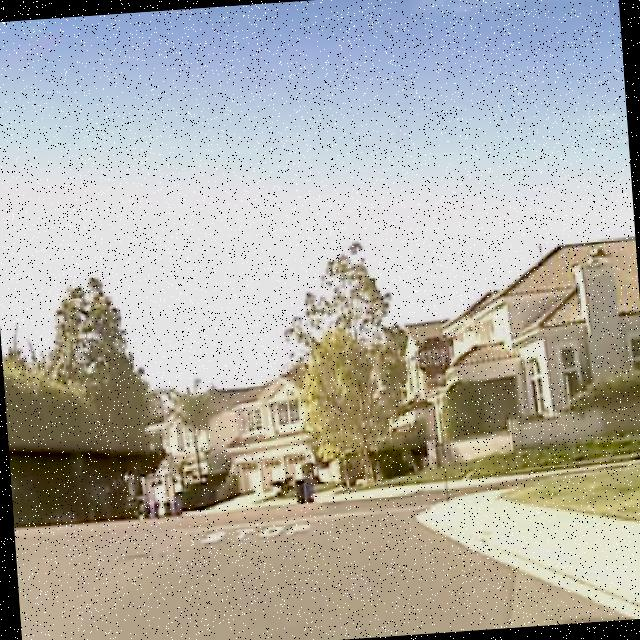Stop: (418, 334, 452, 381)
